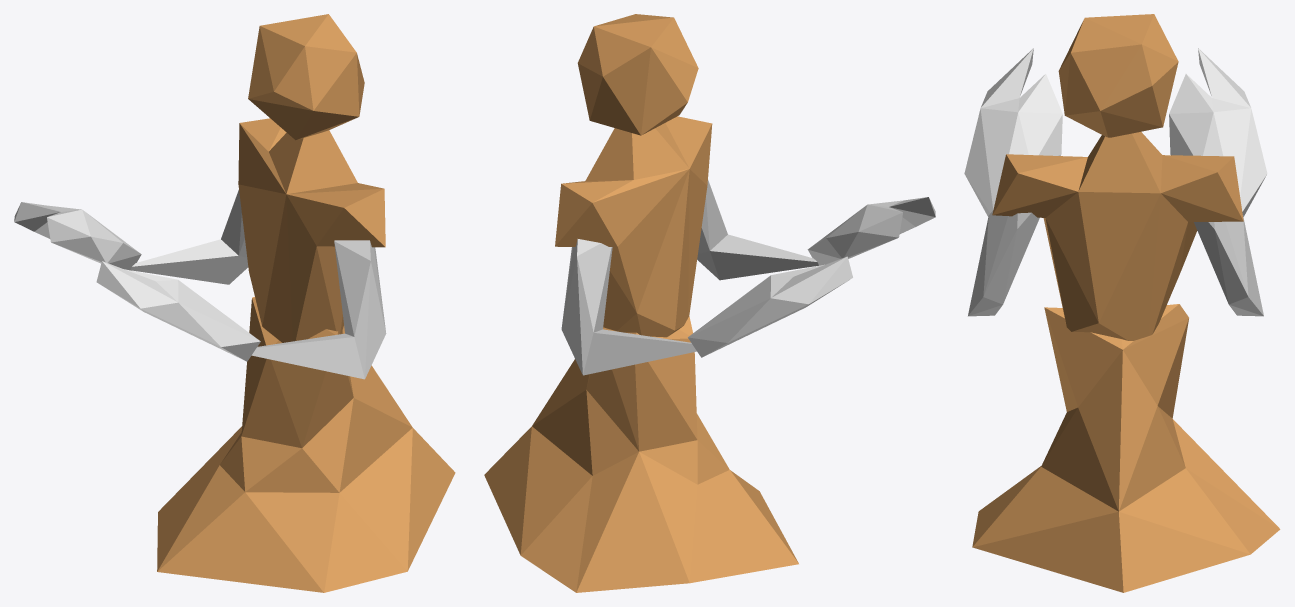
File: mani_xd.dae
3 renders of one model, left to right at view 1: azimuth 30°, elevation 25°; view 2: azimuth 150°, elevation 25°; view 3: azimuth 270°, elevation 25°, orthographic.
Parts seen in each view (by area): view 1: Cube.002, Cube.001, Cube.003, Cube.004, Cube.006, Cube.005, Cube.007; view 2: Cube.002, Cube.001, Cube.003, Cube.007, Cube.005, Cube.004, Cube.006; view 3: Cube.002, Cube.001, Cube.003, Cube.006, Cube.005, Cube.004, Cube.007.
Boxes of the visible parts, x1,y1,x2,y2 form: Cube.002: (157, 296, 455, 592); Cube.001: (238, 118, 385, 342); Cube.003: (248, 14, 364, 140); Cube.004: (251, 240, 386, 379); Cube.006: (96, 261, 260, 361); Cube.005: (14, 202, 141, 270); Cube.007: (130, 190, 248, 284); Cube.002: (484, 316, 798, 592); Cube.001: (555, 116, 712, 337); Cube.003: (577, 14, 698, 135); Cube.007: (561, 239, 696, 375); Cube.005: (688, 256, 852, 357); Cube.004: (697, 180, 818, 280); Cube.006: (807, 197, 935, 265); Cube.002: (972, 304, 1280, 592); Cube.001: (992, 132, 1243, 340); Cube.003: (1058, 14, 1178, 137); Cube.006: (964, 48, 1062, 216); Cube.005: (1169, 48, 1267, 216); Cube.004: (968, 210, 1039, 316); Cube.007: (1194, 215, 1263, 316).
Bounding box in the file's own units: 3.26 × 2.17 × 3.96.
5 materials, 1 textured.
